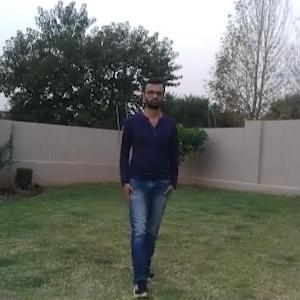follow: (118, 83, 172, 273)
